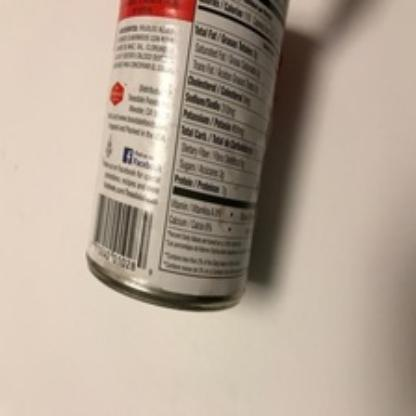Can: (86, 0, 290, 312)
